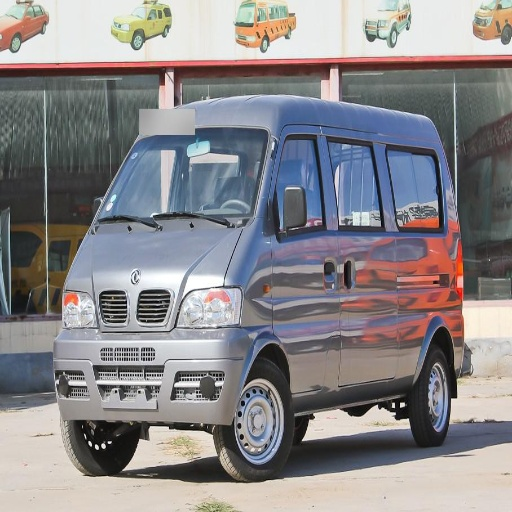front_bumper: (56, 281, 252, 427)
front_glass: (99, 130, 270, 226)
front_left_door: (272, 132, 378, 392)
trunk: (361, 271, 458, 375)
